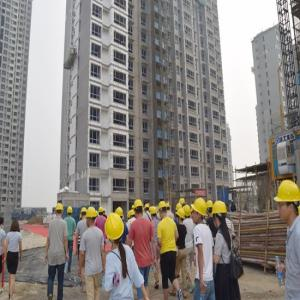none: (10, 219, 21, 233)
yellow: (275, 179, 300, 223), (105, 214, 126, 247), (192, 198, 208, 225), (214, 202, 228, 228), (86, 206, 98, 228), (133, 200, 144, 218), (158, 201, 168, 219), (176, 209, 186, 224), (184, 205, 192, 222), (206, 200, 214, 216), (56, 203, 64, 218), (115, 207, 124, 220), (150, 207, 158, 219), (81, 207, 88, 220), (67, 206, 74, 218), (99, 206, 105, 217), (130, 210, 136, 220), (144, 204, 150, 213), (166, 203, 171, 212)
